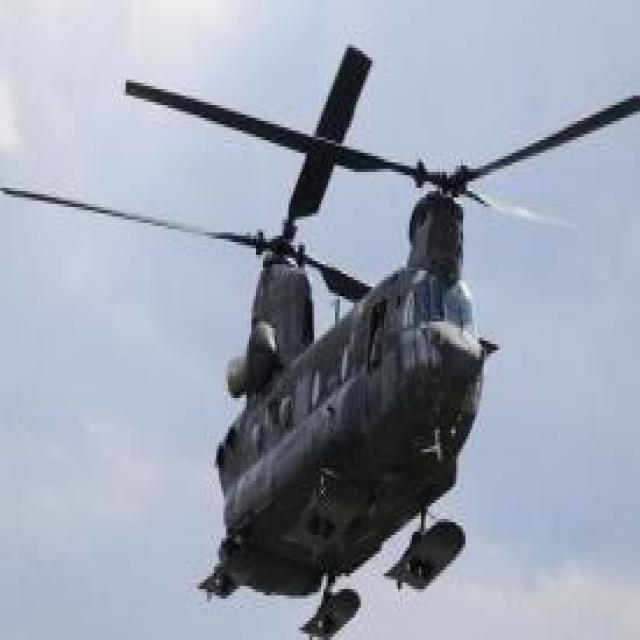Helicopter: (155, 59, 568, 624)
